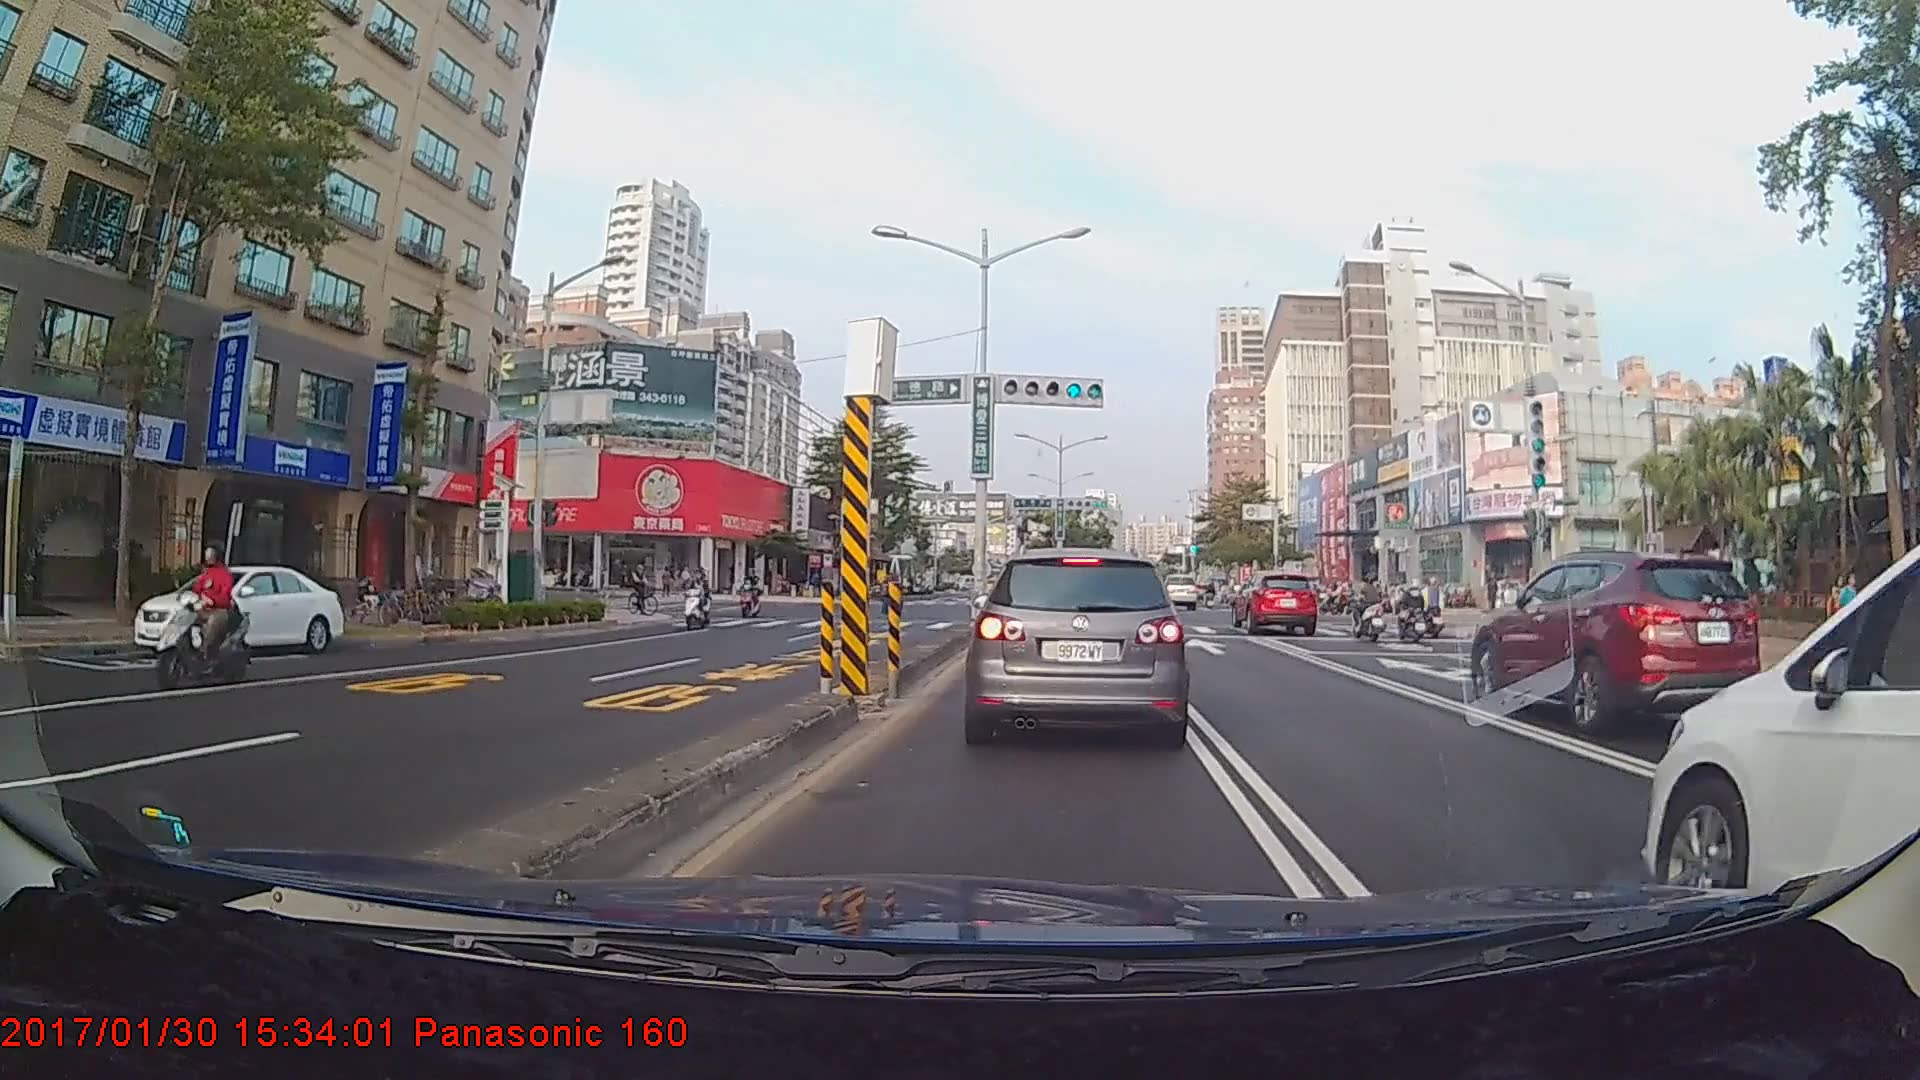pedestrian: (1833, 573, 1860, 661), (1827, 576, 1853, 657)
rider: (158, 542, 256, 693), (1341, 576, 1395, 646), (1389, 579, 1438, 644), (681, 568, 720, 636), (626, 560, 665, 623), (742, 568, 771, 622)
vehicle: (1470, 550, 1770, 731), (968, 545, 1187, 742), (132, 562, 340, 658), (1233, 571, 1321, 634), (1161, 572, 1198, 610)
